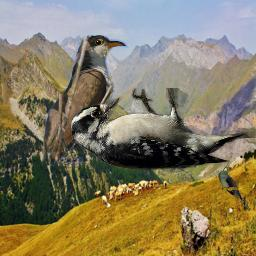Cuckoo: (43, 35, 147, 166), (218, 167, 252, 211)
Woodpecker: (71, 88, 255, 170)
